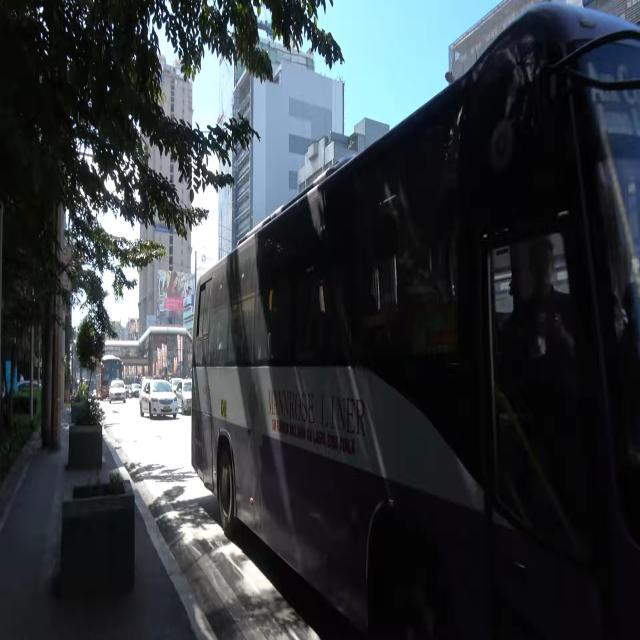bus: (190, 1, 640, 639), (95, 354, 124, 400)
car: (139, 378, 178, 422), (176, 378, 192, 417), (108, 378, 126, 402)
